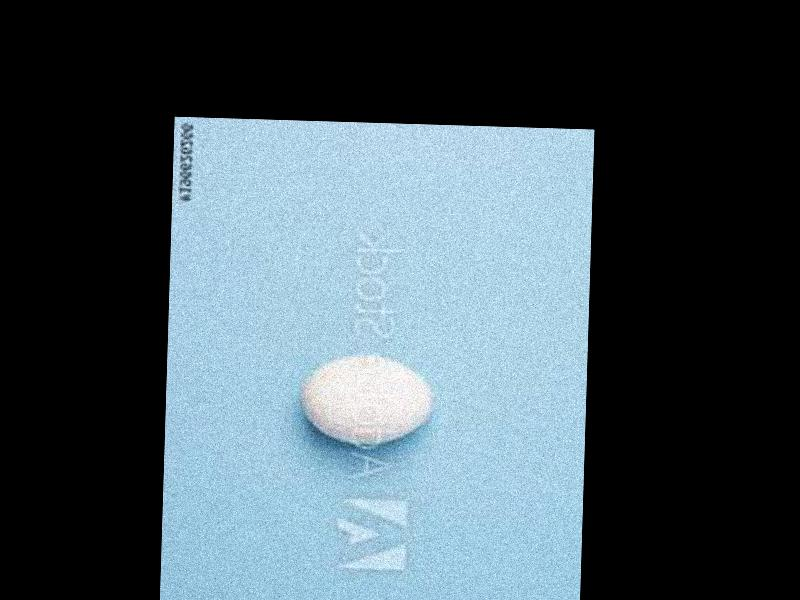Eggs: (302, 354, 430, 446)
